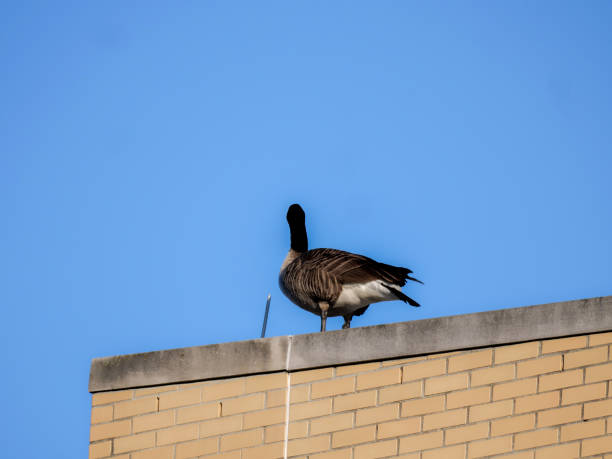goose: (275, 201, 426, 334)
